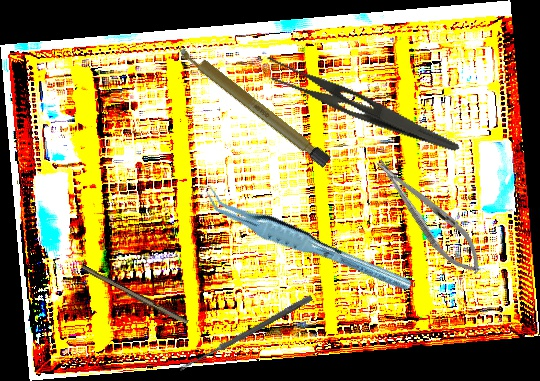Dressing Forceps: (255, 53, 469, 154)
Needle Holder: (366, 148, 492, 284)
Scalpel Handle: (175, 41, 332, 169), (79, 264, 190, 327)
Surgical Spoon: (177, 293, 314, 374)
Tissue Forceps: (198, 167, 415, 316)
